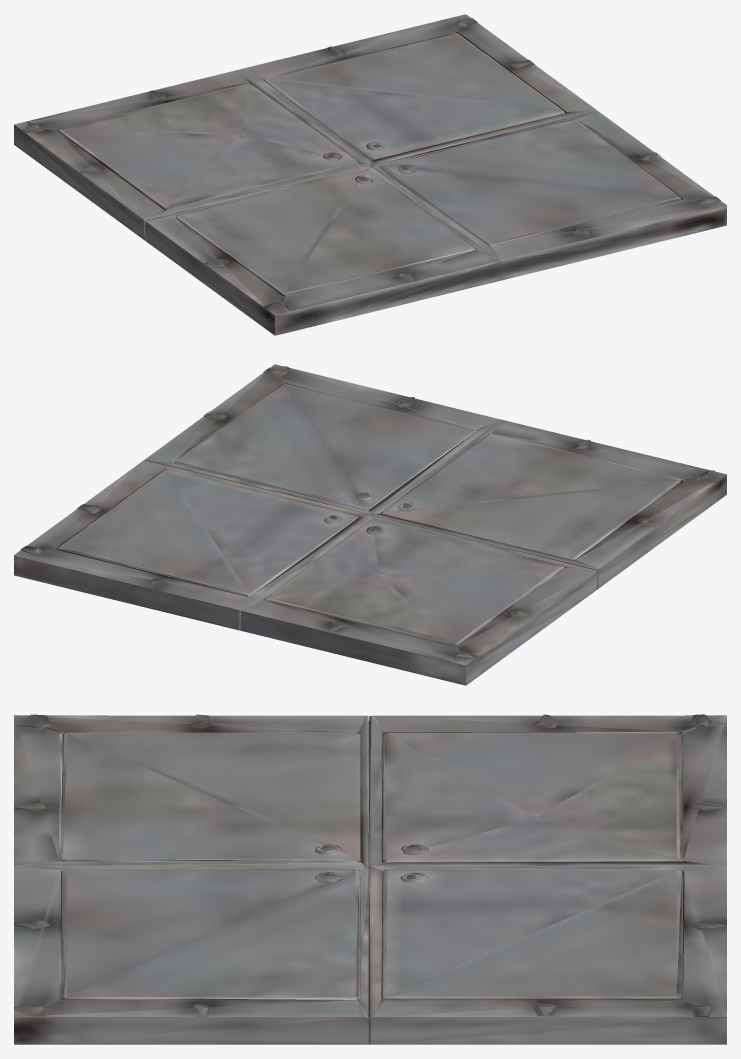
The model's file is floor-plate.lod1.glb.
The picture shows the model from 3 angles, top to bottom: view 1: azimuth 30°, elevation 25°; view 2: azimuth 150°, elevation 25°; view 3: azimuth 270°, elevation 25°; orthographic projection. The views are drawn at different scales.
Size of the model in its own units: 2 by 0.0997 by 2.
Materials: 1 (1 with a texture image).
